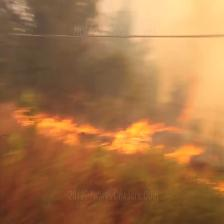fire: (3, 100, 224, 193)
nofire: (0, 171, 182, 224)
smoke: (90, 4, 224, 161)
